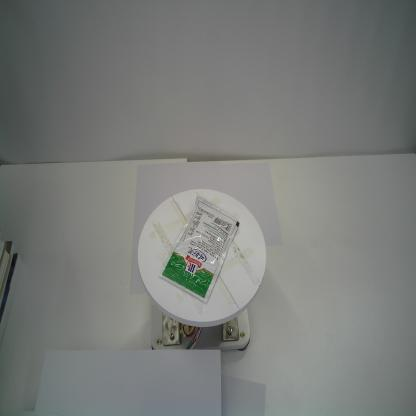Seasoner: (158, 194, 240, 306)
